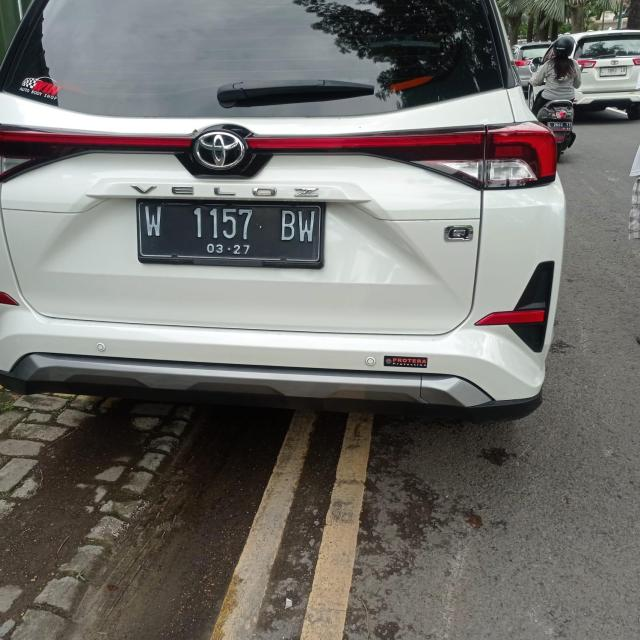license-plate: (138, 200, 324, 268)
